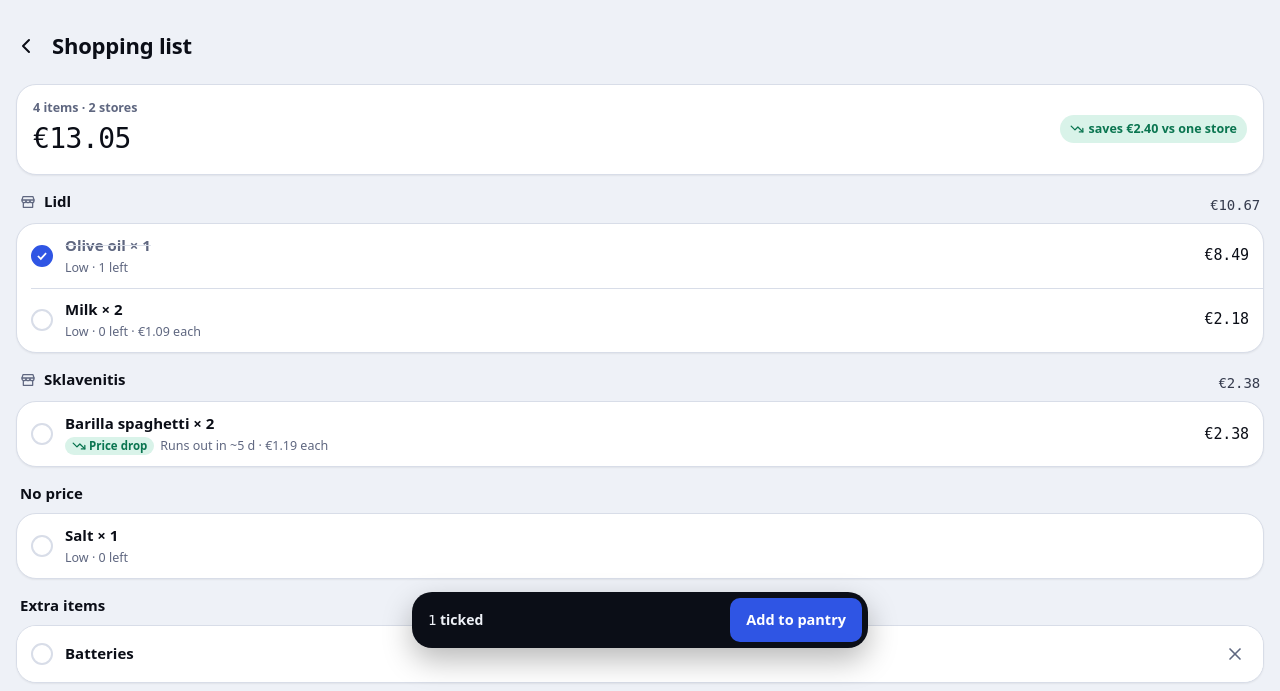
Test case: Add to pantry waits for a tick still being sent
Click the checkbox labelled "Milk × 2". click: (94, 309)
box: 17,288 -> 1263,352
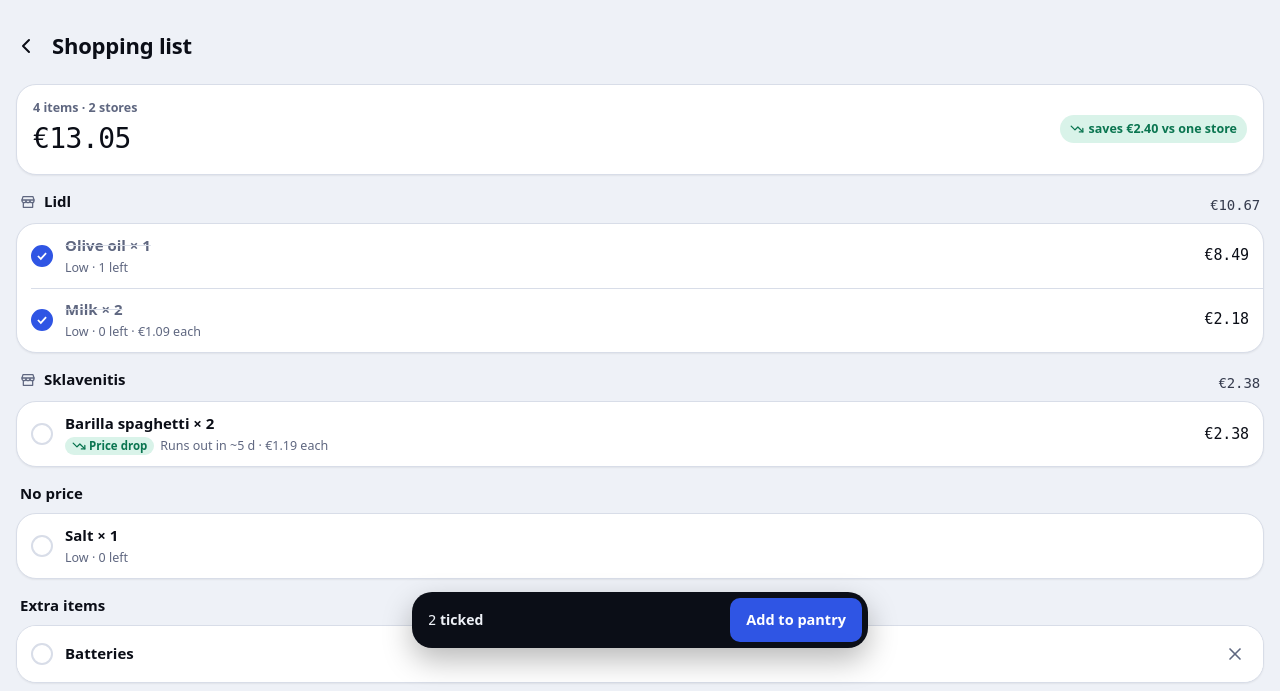
Click the button "Add to pantry". click: (796, 620)
box: 730,598 -> 862,642
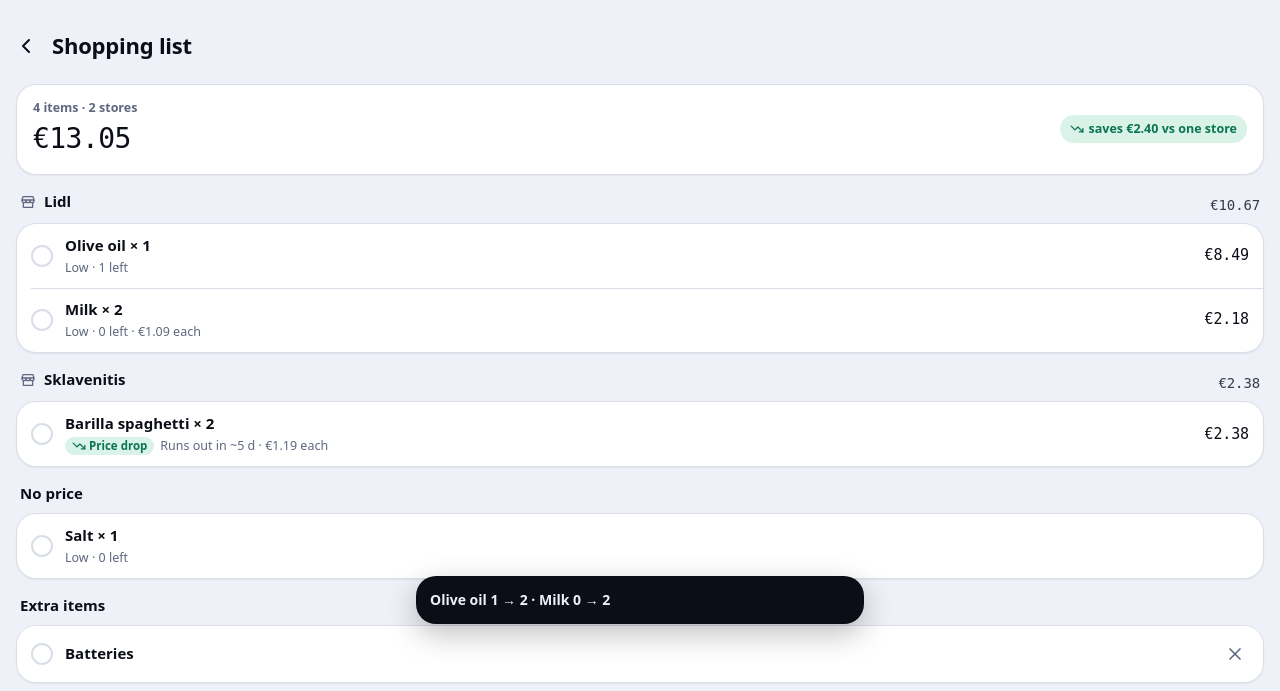
Now the text "Olive oil 1 → 2 · Milk 0 → 2" is shown, box 430,590 -> 610,609
